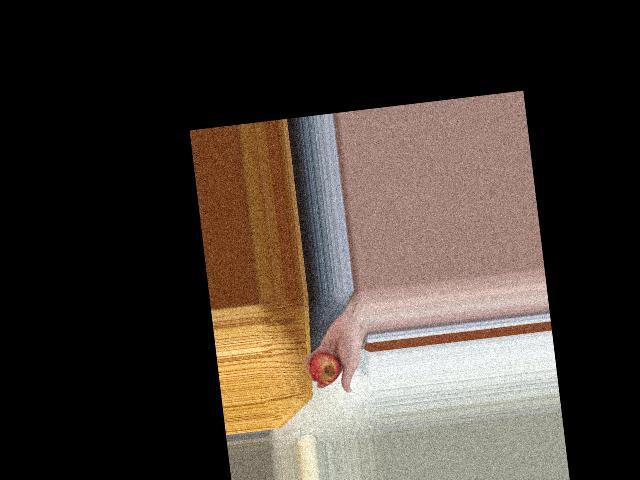apple: (304, 338, 346, 390)
